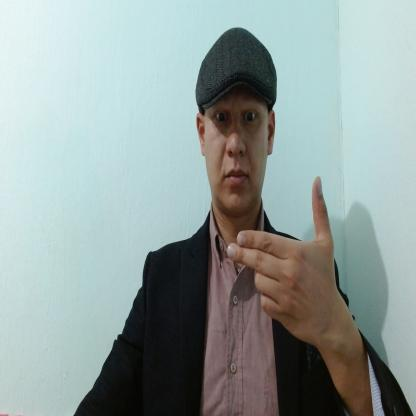H: (227, 174, 336, 343)
